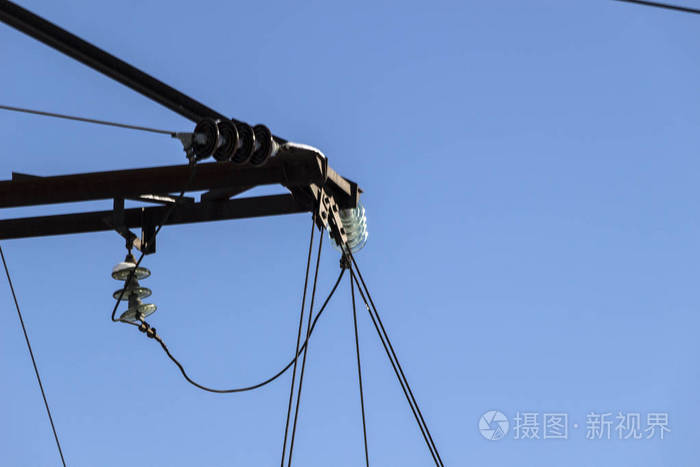insulator: (185, 114, 275, 166), (111, 262, 158, 326), (332, 204, 367, 253)
